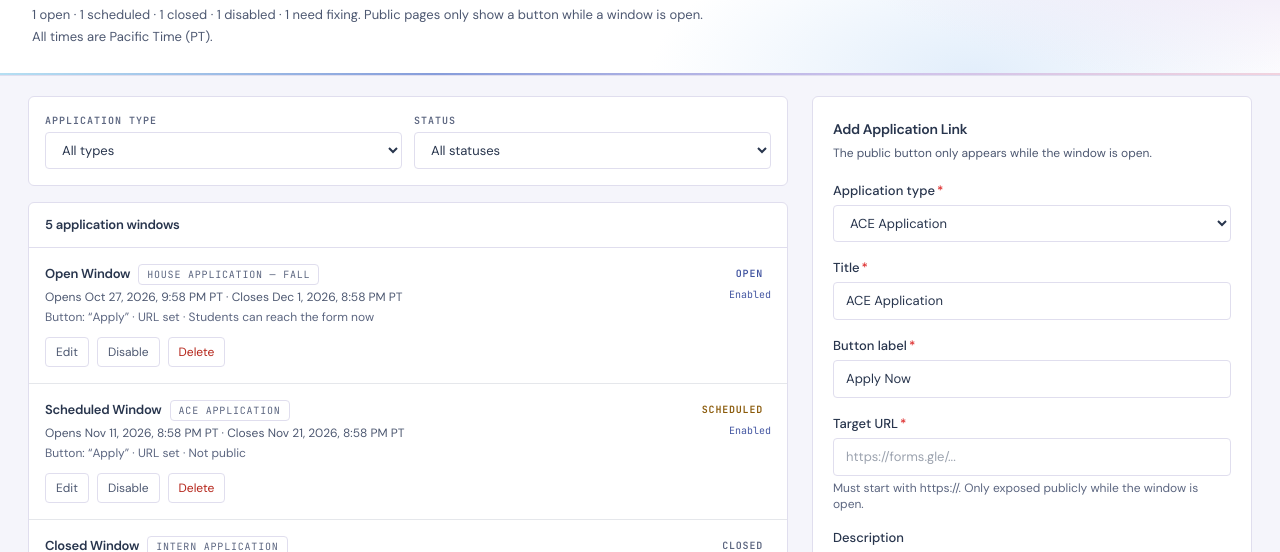
Test case: public preview › shows a scheduled window as students see it now: the before-open message and no link, with the URL only in the admin line
Click the button "Edit" below "Nov 11, 2026, 8:58 PM PT": point(67, 488) x1=45 y1=473 x2=89 y2=503
(page scrolled)
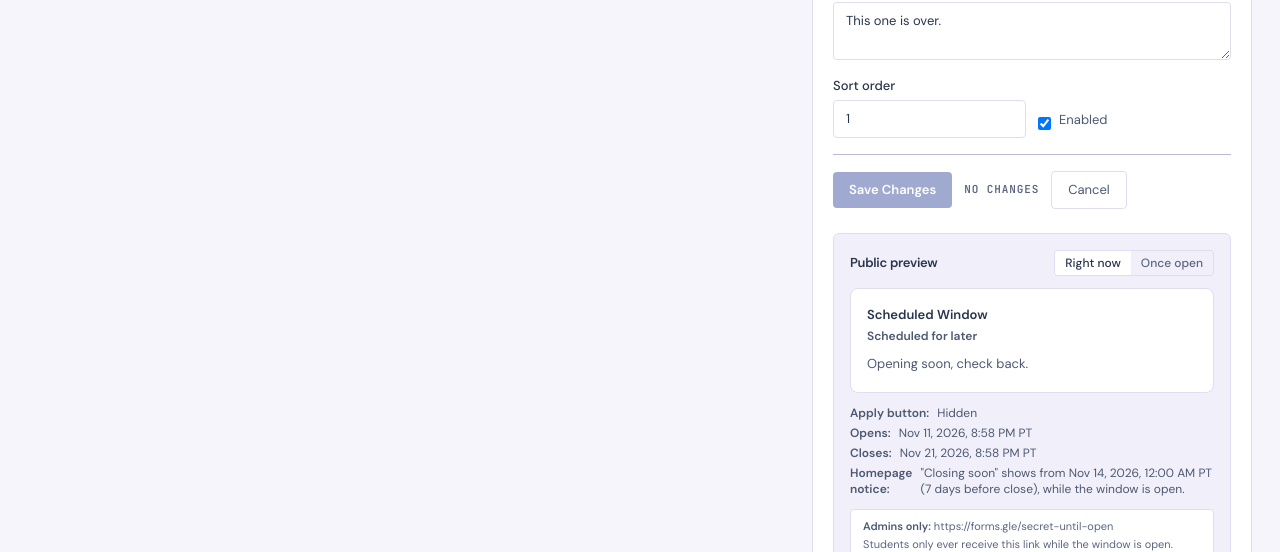
Expected: the element with test id "application-preview-card" does not show "https://forms.gle/secret-until-open"
Expected: the text "Opening soon, check back." is shown, x1=867 y1=355 x2=1028 y2=372
Expected: the text "https://forms.gle/secret-until-open" is shown, x1=934 y1=519 x2=1113 y2=533
